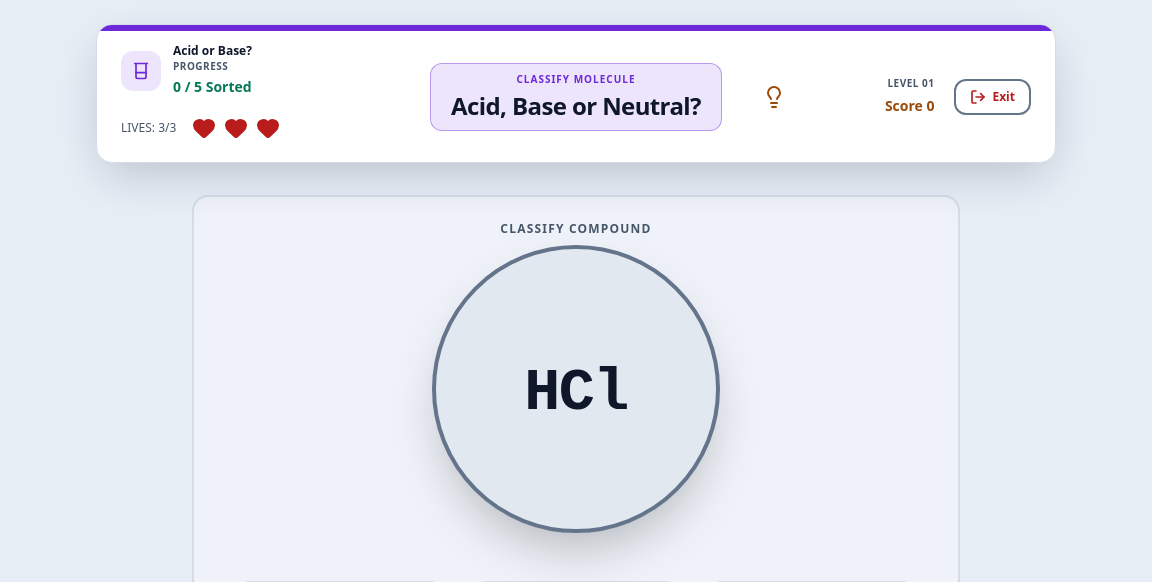
it: Acid classification page (game flow) › the hint reveals the compound name
Check: the text "Hydrochloric Acid" is not shown
Click the button titled "Get Hint": coordinates (774, 96) [754, 76, 794, 116]
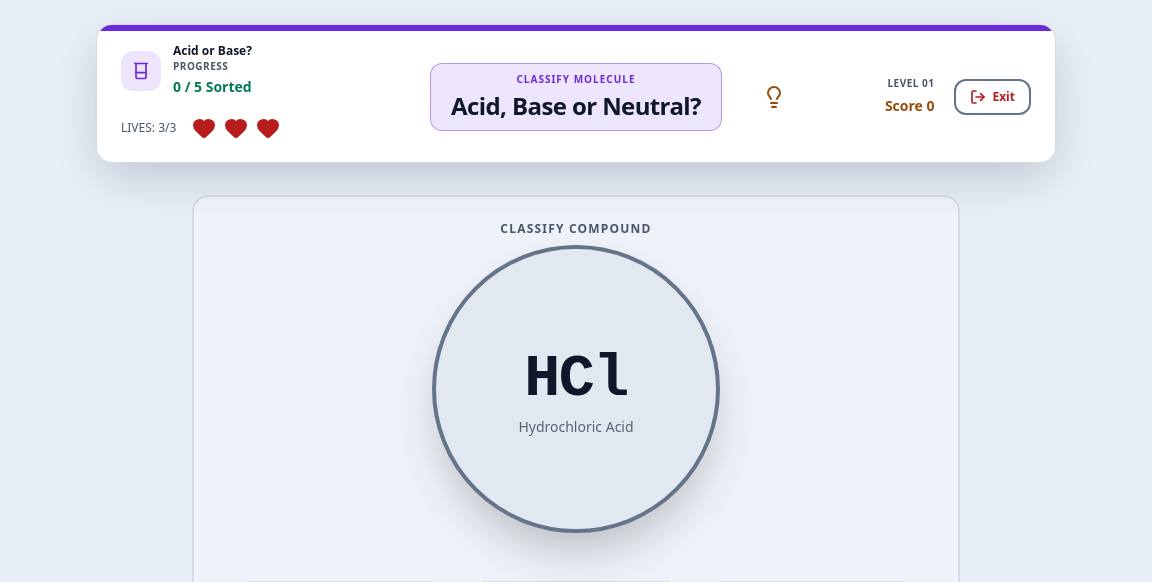
Check: the text "Hydrochloric Acid" is shown, box [510, 416, 642, 436]
